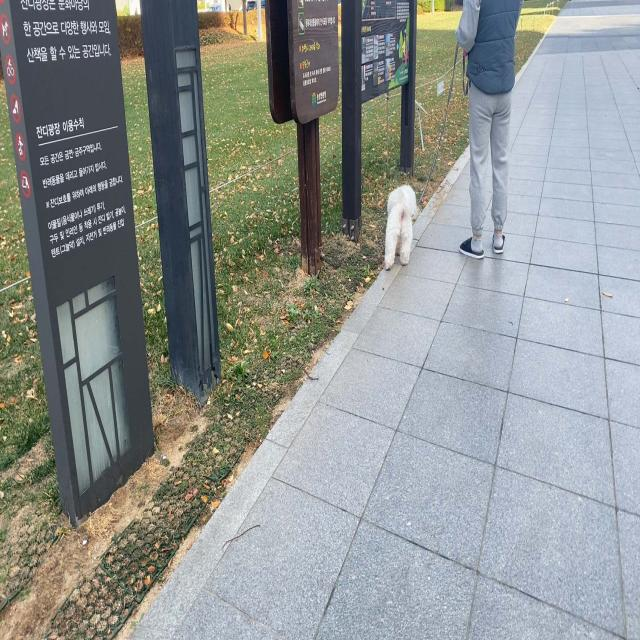Leashed_Dog: (383, 19, 489, 271)
